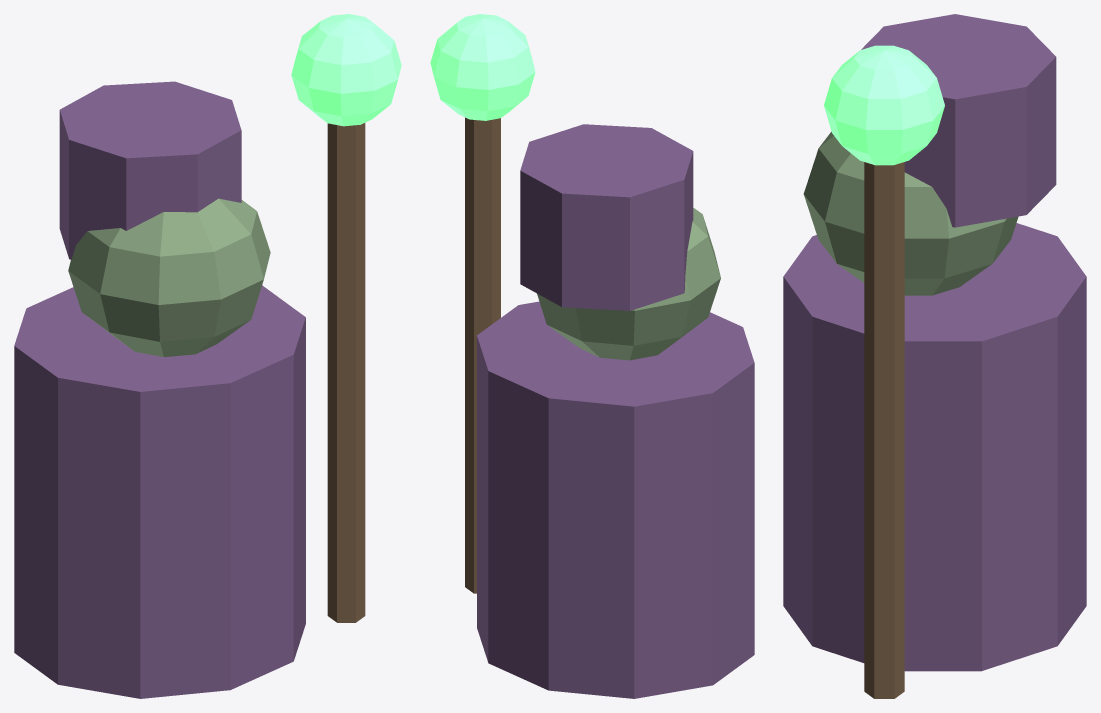
File: mender.glb
3 views of the same model, side by side, from view 1: azimuth 30°, elevation 25°; view 2: azimuth 150°, elevation 25°; view 3: azimuth 270°, elevation 25° (orthographic). The views are drawn at different scales.
Visible parts, largest first — view 1: BodyMesh, Orb; view 2: BodyMesh, Orb; view 3: BodyMesh, Orb.
Part boxes in pixels (x1,y1,x2,y2): BodyMesh: (14,81,365,698); Orb: (291,14,401,126); BodyMesh: (465,117,754,698); Orb: (430,14,535,120); BodyMesh: (783,14,1086,698); Orb: (824,45,944,165).
Bounding box in the file's own units: 0.4092 × 0.7 × 0.3.
